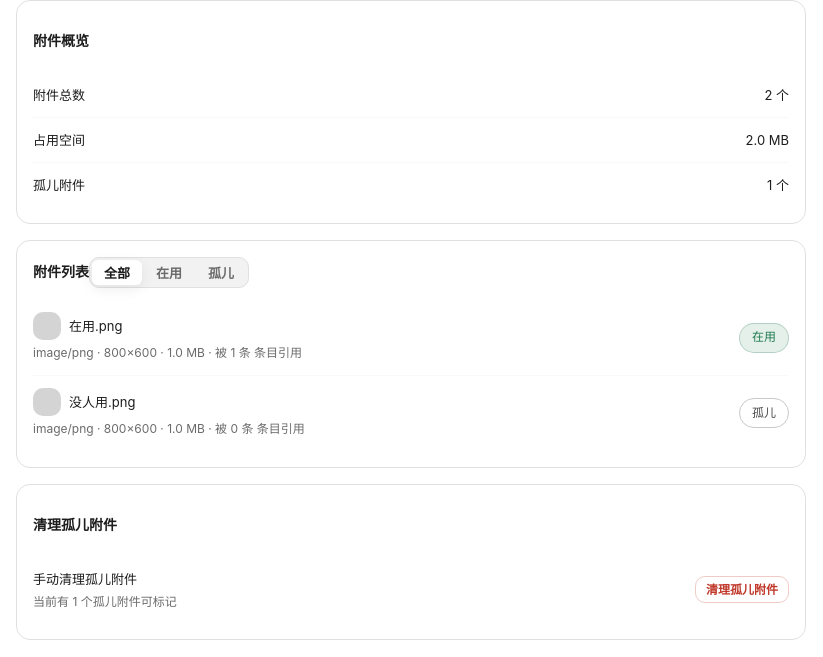
Test: 三种空态 › 筛选按「有没有引用」判：0 引用算孤儿（不按 orphaned_at 标记）
The image size is (823, 657).
Expected: the heading "附件概览" is shown, [33,17,133,61]
Expected: the text "没人用.png" shows "孤儿", [752,405,776,420]
Click the button "孤儿".
click(221, 273)  # box [196,260,246,285]
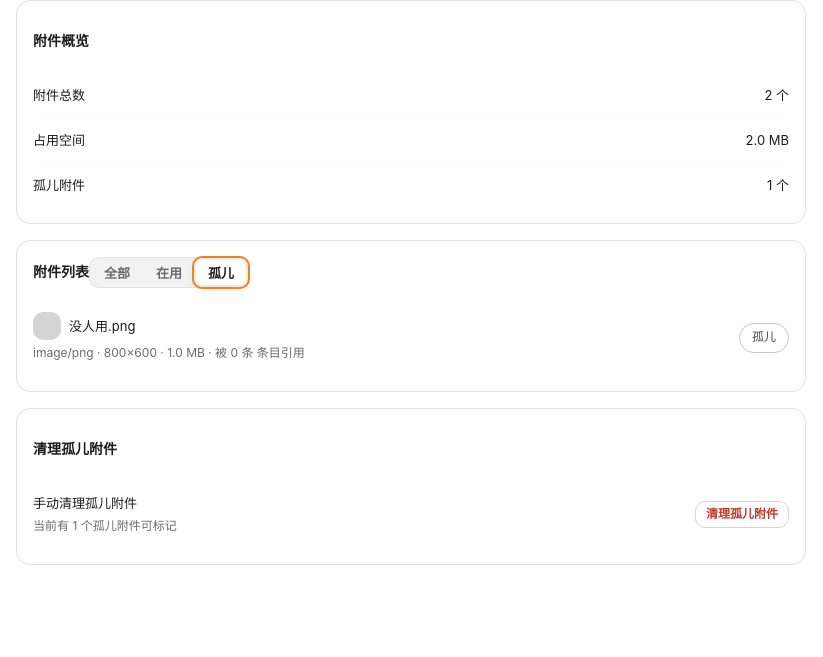
Expected: the text "没人用.png" is shown, [69,316,135,336]
Expected: the text "在用.png" is gone
